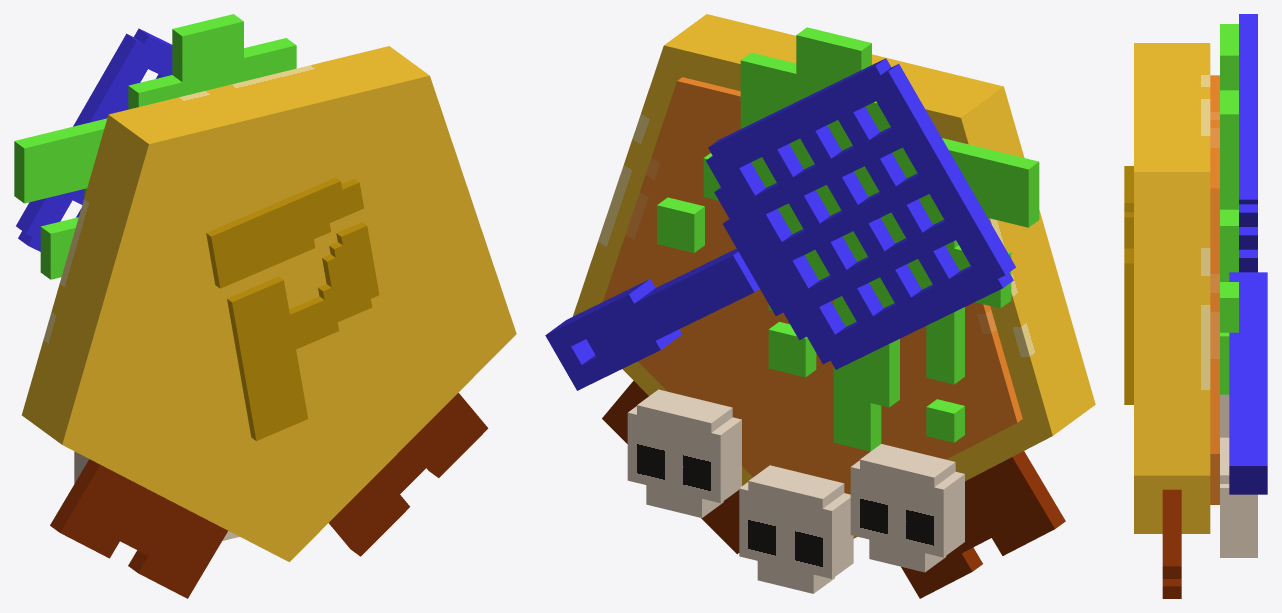
The model's file is achievement_bugsquasher.gltf.
3 views of the same model, side by side, from view 1: azimuth 30°, elevation 25°; view 2: azimuth 150°, elevation 25°; view 3: azimuth 270°, elevation 25° (orthographic). The views are drawn at different scales.
Visible parts, largest first — view 1: Main-Local, Frame2-Local, Frame1-Local, BackP-Local, Frame4-Local, Frame5-Local, Splat-Local, Ribbon2-Local, Frame3-Local, Ribbon1-Local, Swatter-Local; view 2: Swatter-Local, Splat-Local, Main-Local, Frame2-Local, Skull3_3-Local, Skull3_2-Local, Skull3_1-Local, Border3-Local, Frame1-Local, Ribbon2-Local, Border5-Local, Frame5-Local (+6 smaller); view 3: Frame5-Local, Swatter-Local, Frame1-Local, Splat-Local, Frame4-Local, Skull3_2-Local, Border5-Local, BackP-Local, Ribbon1-Local, Border1-Local, Border4-Local, Skull3_3-Local.
Part boxes in pixels (<box>): Main-Local: <box>131,138,446,514</box>; Frame2-Local: <box>22,114,214,450</box>; Frame1-Local: <box>109,46,429,217</box>; BackP-Local: <box>206,177,379,440</box>; Frame4-Local: <box>248,285,516,561</box>; Frame5-Local: <box>363,76,516,350</box>; Splat-Local: <box>14,14,296,279</box>; Ribbon2-Local: <box>50,459,227,598</box>; Frame3-Local: <box>63,376,322,561</box>; Ribbon1-Local: <box>329,393,488,556</box>; Swatter-Local: <box>16,28,172,251</box>; Swatter-Local: <box>545,58,1015,390</box>; Splat-Local: <box>657,27,1039,451</box>; Main-Local: <box>658,117,955,451</box>; Frame2-Local: <box>932,86,1095,439</box>; Skull3_3-Local: <box>850,444,964,572</box>; Skull3_2-Local: <box>627,389,741,517</box>; Skull3_1-Local: <box>739,465,853,593</box>; Border3-Local: <box>763,349,1017,494</box>; Frame1-Local: <box>664,14,1003,142</box>; Ribbon2-Local: <box>901,451,1065,598</box>; Border5-Local: <box>603,81,740,357</box>; Frame5-Local: <box>573,45,734,316</box>; Frame5-Local: <box>1134,172,1210,475</box>; Swatter-Local: <box>1229,14,1267,494</box>; Frame1-Local: <box>1134,43,1210,171</box>; Splat-Local: <box>1220,24,1238,394</box>; Frame4-Local: <box>1134,475,1210,533</box>; Skull3_2-Local: <box>1220,443,1257,557</box>; Border5-Local: <box>1210,188,1219,453</box>; BackP-Local: <box>1124,166,1133,404</box>; Ribbon1-Local: <box>1162,489,1181,598</box>; Border1-Local: <box>1210,75,1219,188</box>; Border4-Local: <box>1210,454,1219,504</box>; Skull3_3-Local: <box>1220,394,1229,437</box>.
Size of the model in its own units: 51.78 by 58.15 by 15.
19 materials, 19 textured.
